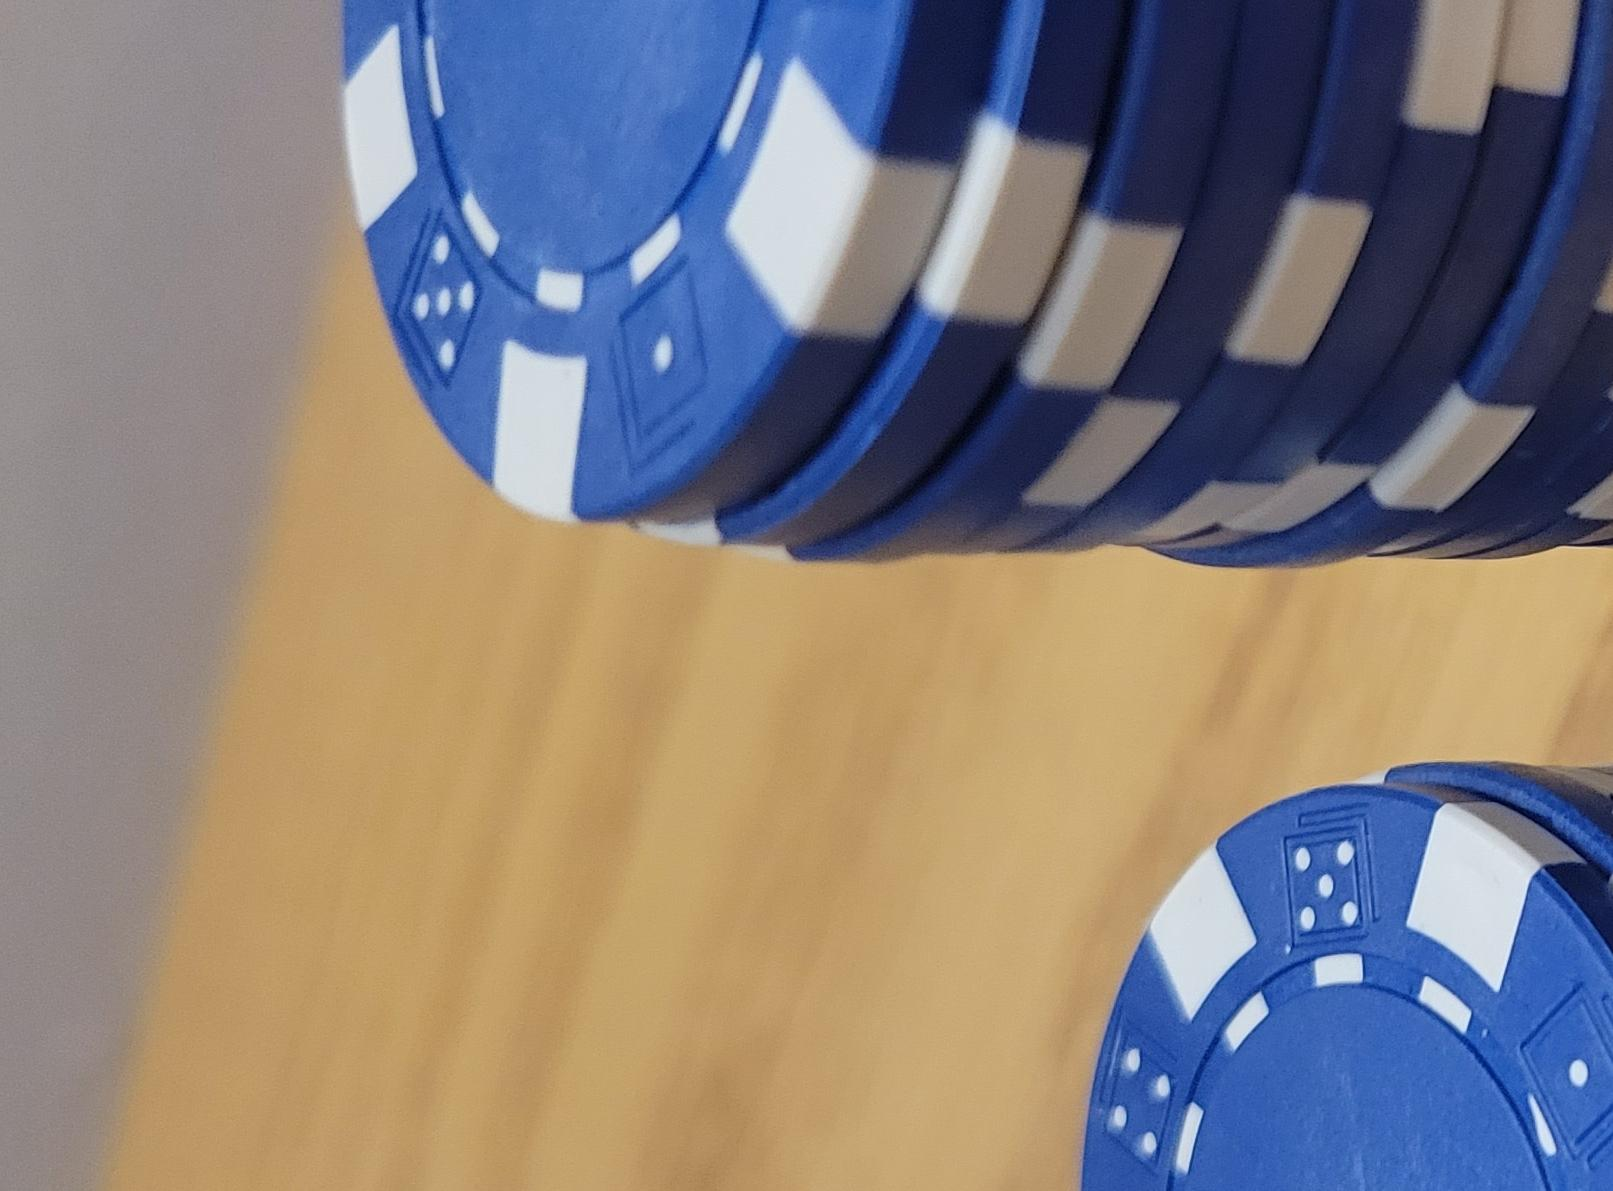Chip: (1, 321, 1145, 1191)
